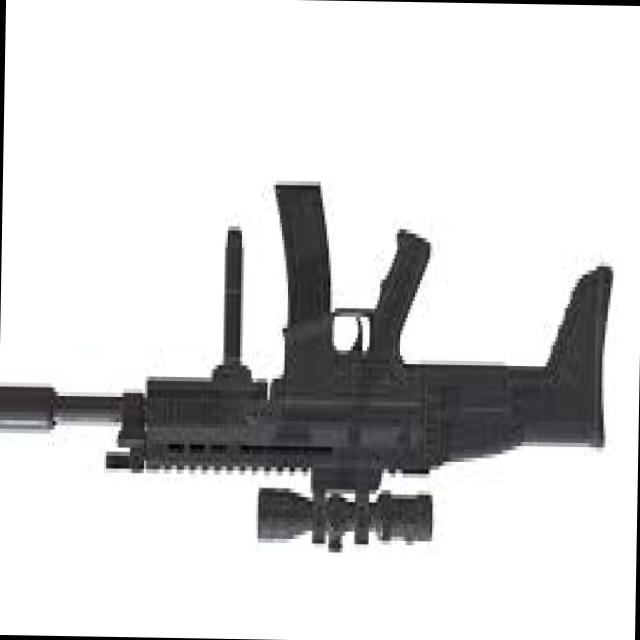Gun: (0, 171, 628, 561)
